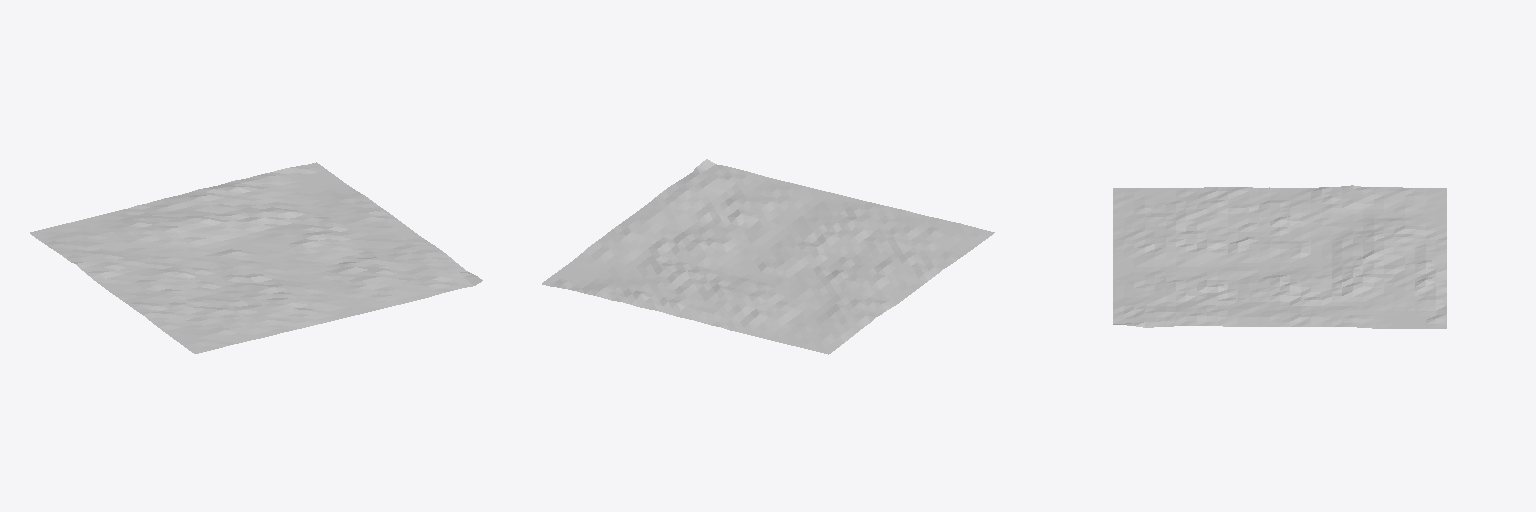
File: burntTerrainFlat.obj
The picture shows the model from 3 angles: view 1: azimuth 30°, elevation 25°; view 2: azimuth 150°, elevation 25°; view 3: azimuth 270°, elevation 25°; orthographic projection.
Bounding box in the file's own units: 4000 × 66.4 × 4000.